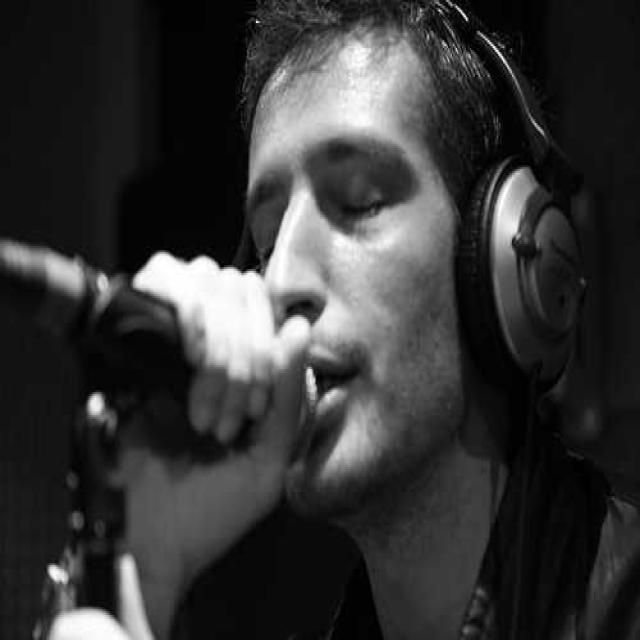microphone: (0, 236, 308, 460)
